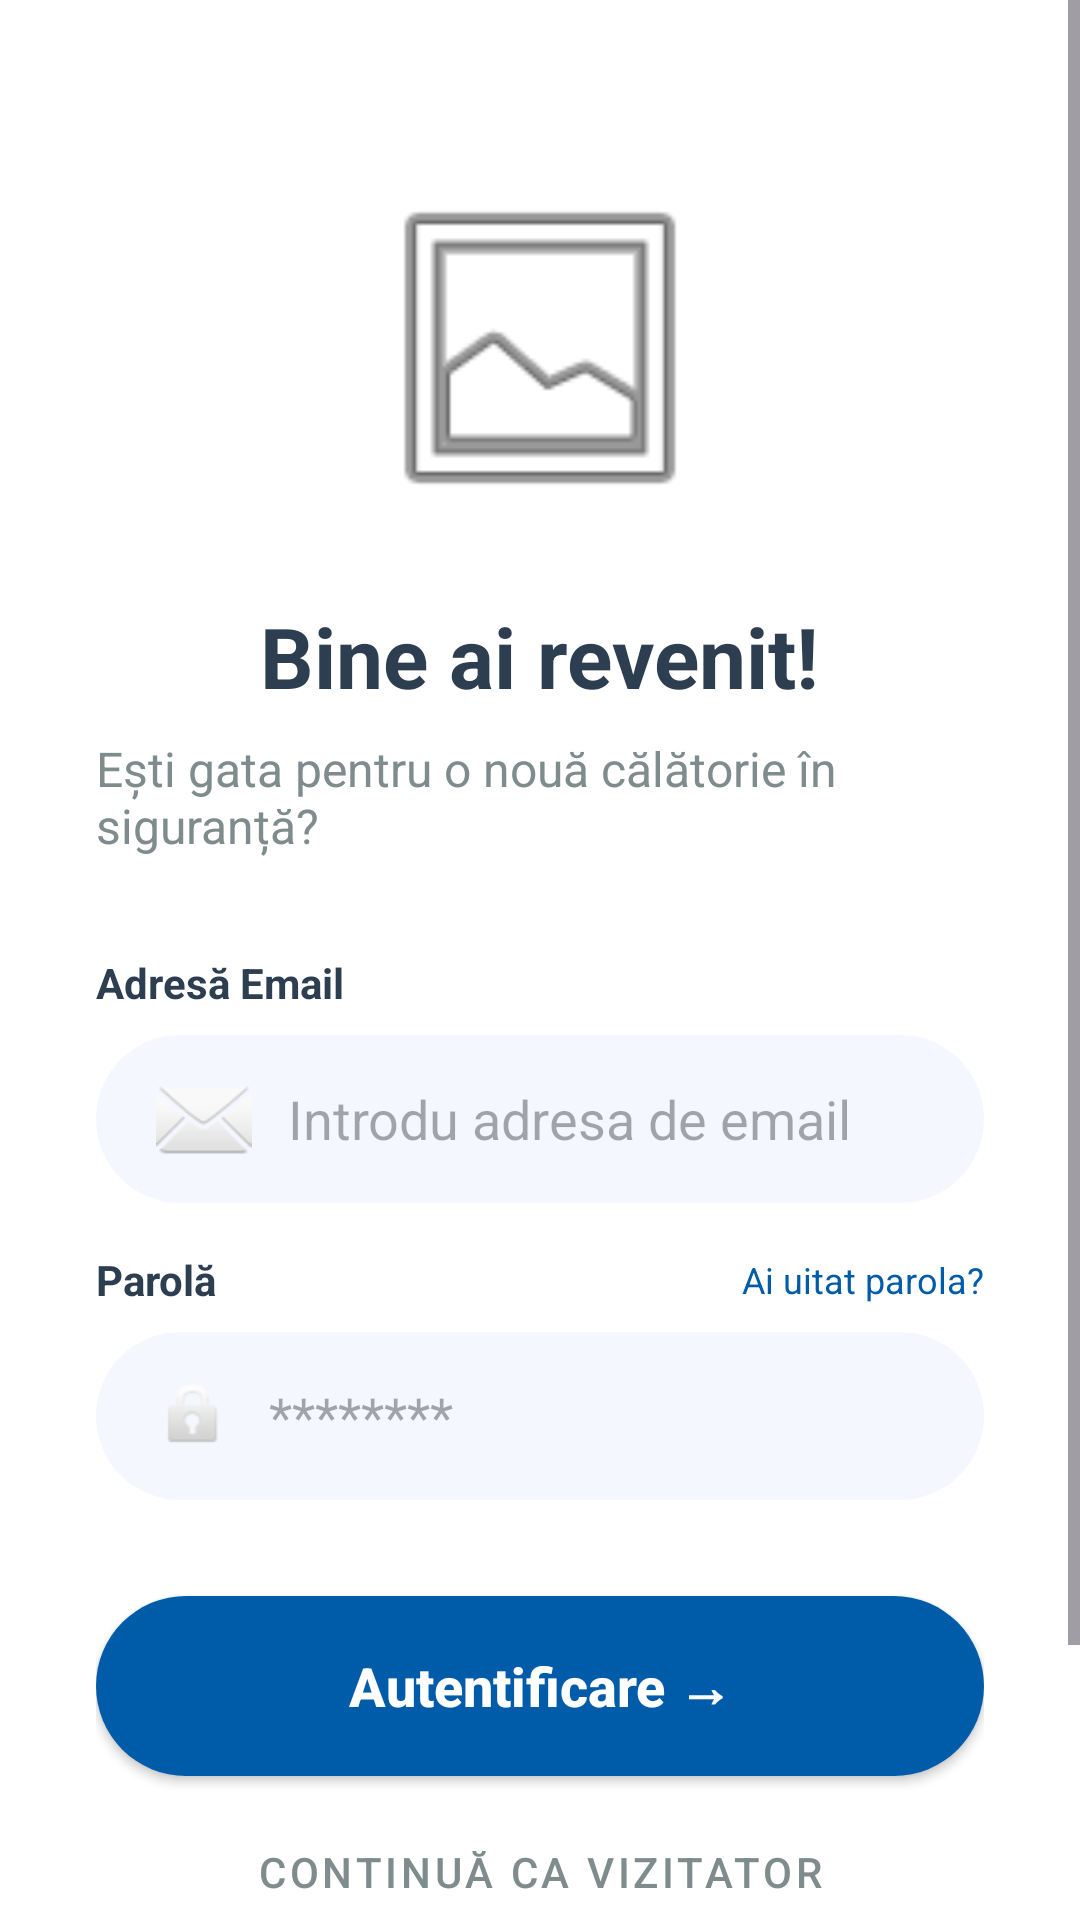

Locate icon controls on the screen. Image size 1080 x 1920, boxes as [x1,y1,x2,y2].
gallery: [404,212,676,484]
